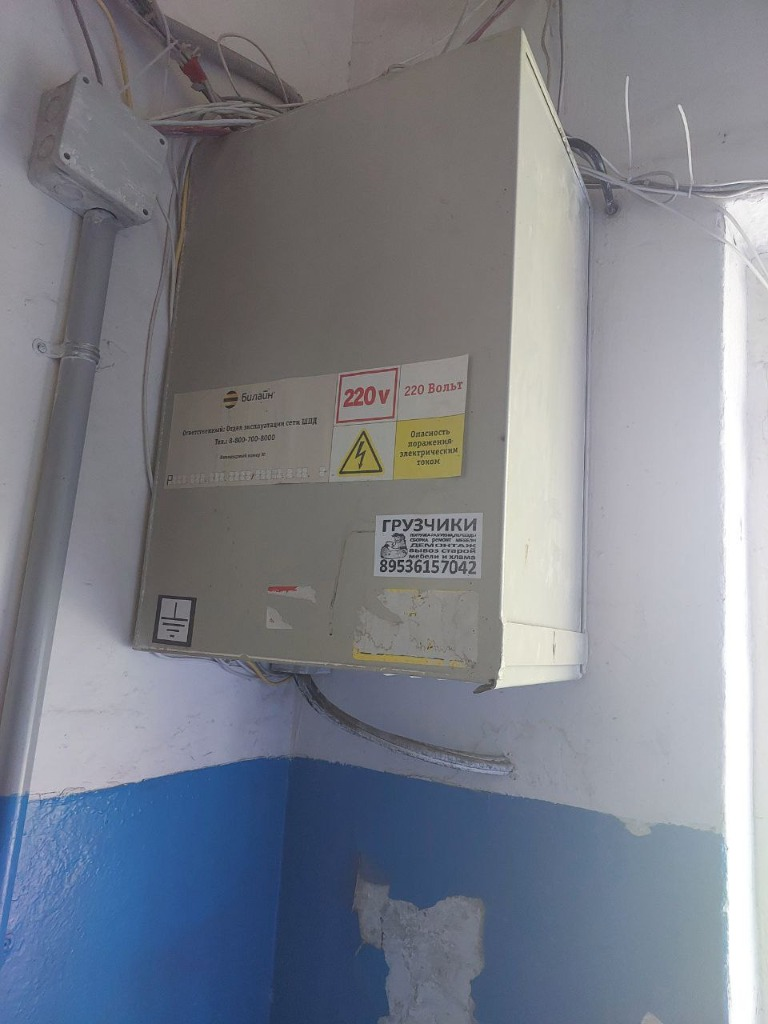sv-5: (127, 19, 607, 693)
